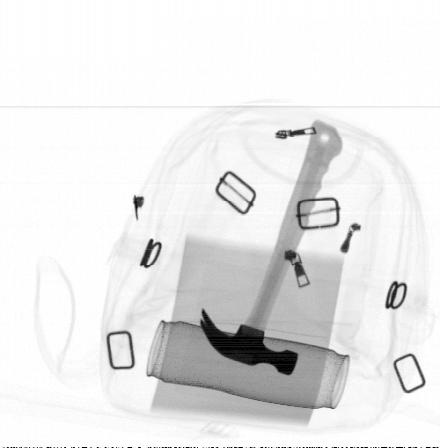Hammer: (199, 116, 345, 377)
